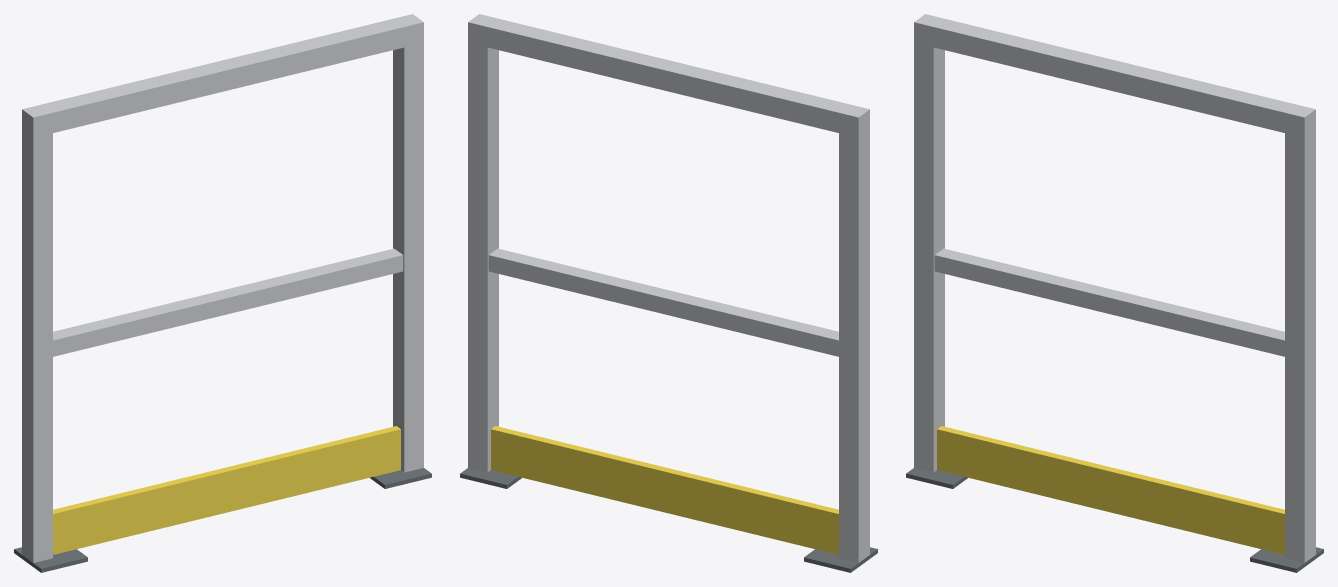
Rendered from Guard_Rail.glb.
3 renders of one model, left to right at view 1: azimuth 30°, elevation 25°; view 2: azimuth 150°, elevation 25°; view 3: azimuth 330°, elevation 25°, orthographic.
Parts seen in each view (by area): view 1: Guard_Rail; view 2: Guard_Rail; view 3: Guard_Rail.
Part boxes in pixels (left/top/right/bottom): Guard_Rail: left=14, top=14, right=431, bottom=572; Guard_Rail: left=460, top=14, right=877, bottom=572; Guard_Rail: left=906, top=14, right=1323, bottom=572.
Size of the model in its own units: 1 by 1.1 by 0.12.
